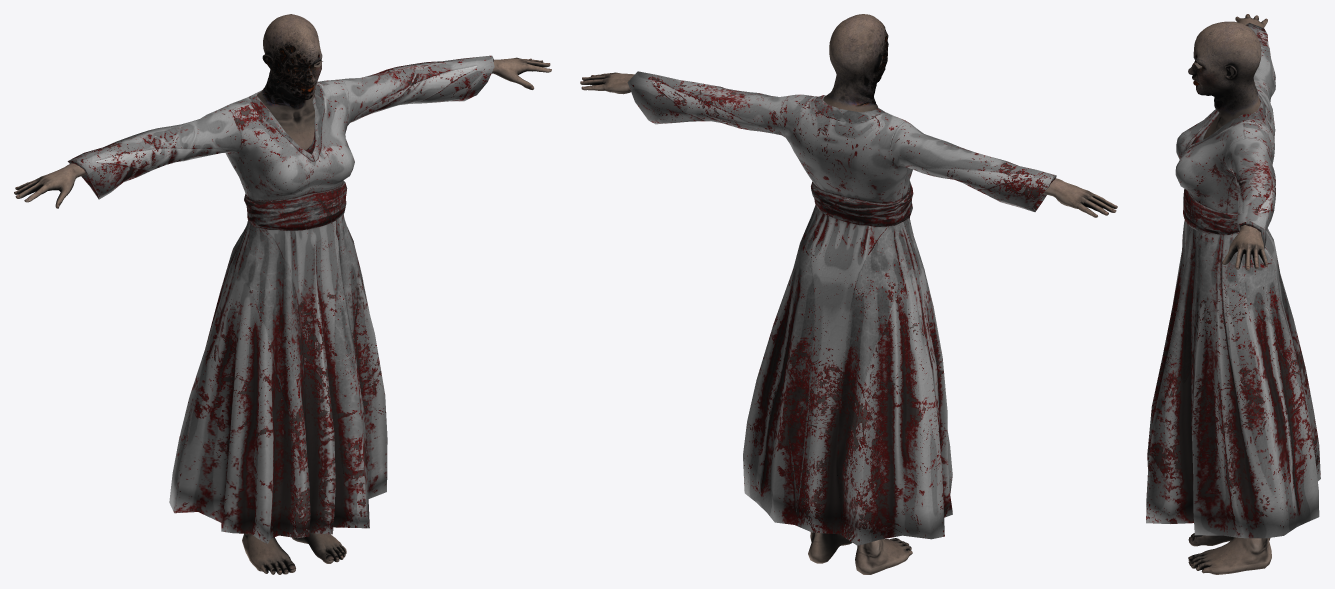
File: Pontianak_C_High.fbx
3 views of the same model, side by side, from view 1: azimuth 30°, elevation 25°; view 2: azimuth 150°, elevation 25°; view 3: azimuth 270°, elevation 25° (orthographic).
Parts seen in each view (by area): view 1: Pontianak_C_High; view 2: Pontianak_C_High; view 3: Pontianak_C_High.
Boxes of the visible parts, x1=… form: Pontianak_C_High: x1=14, y1=14, x2=551, y2=574; Pontianak_C_High: x1=580, y1=14, x2=1117, y2=574; Pontianak_C_High: x1=1146, y1=14, x2=1320, y2=574.
Size of the model in its own units: 182 by 176 by 52.25.
